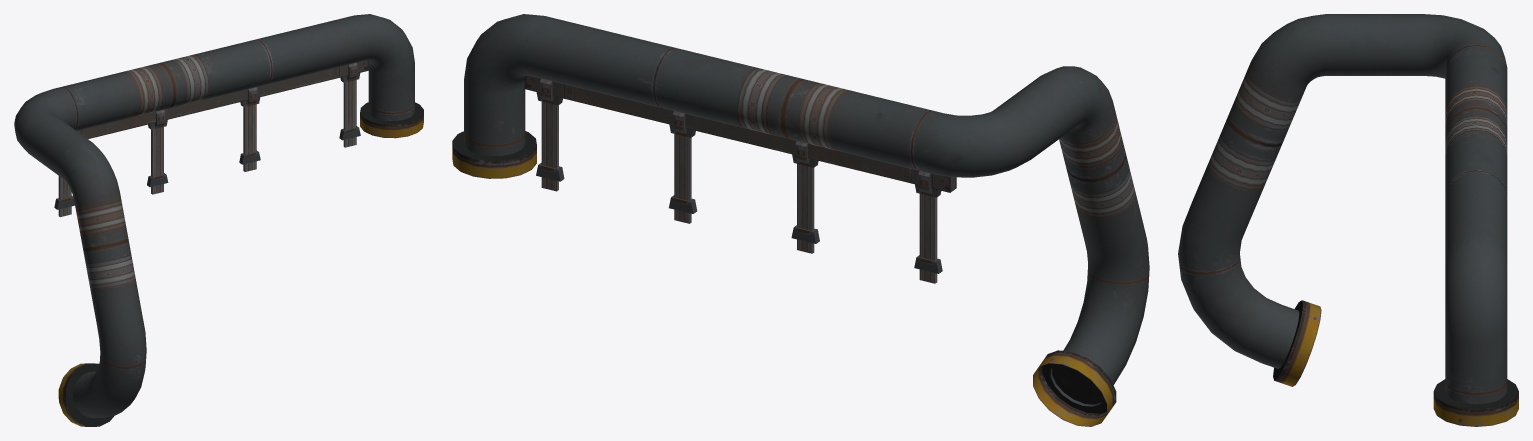
File: Wall3_Pipe3_L0.fbx
The picture shows the model from 3 angles, left to right: view 1: azimuth 30°, elevation 25°; view 2: azimuth 150°, elevation 25°; view 3: azimuth 270°, elevation 25°; orthographic projection. The views are drawn at different scales.
Parts seen in each view (by area): view 1: Wall3_Pipe3_L0; view 2: Wall3_Pipe3_L0; view 3: Wall3_Pipe3_L0.
Boxes of the visible parts, bbox=[...] form: Wall3_Pipe3_L0: bbox=[14, 14, 423, 426]; Wall3_Pipe3_L0: bbox=[452, 14, 1149, 426]; Wall3_Pipe3_L0: bbox=[1178, 14, 1518, 426].
Size of the model in its own units: 262 by 163 by 137.
